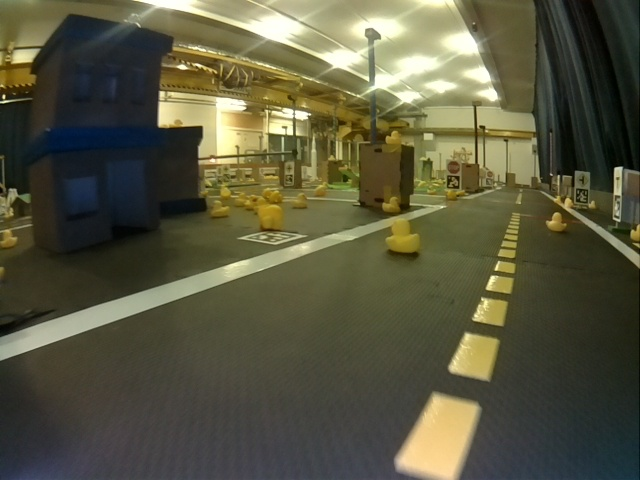Duckie: (386, 219, 421, 251), (259, 205, 281, 228), (546, 212, 567, 230), (211, 201, 228, 216), (382, 197, 399, 211), (2, 231, 16, 247), (293, 194, 306, 208), (630, 224, 639, 240), (388, 132, 400, 142), (246, 196, 256, 206), (236, 195, 243, 205)
Intersection sign: (614, 170, 623, 193), (576, 174, 588, 187)
QR code: (240, 232, 301, 245), (575, 189, 589, 204), (447, 175, 460, 189), (613, 202, 620, 219)
Stop sign: (447, 160, 461, 173)
